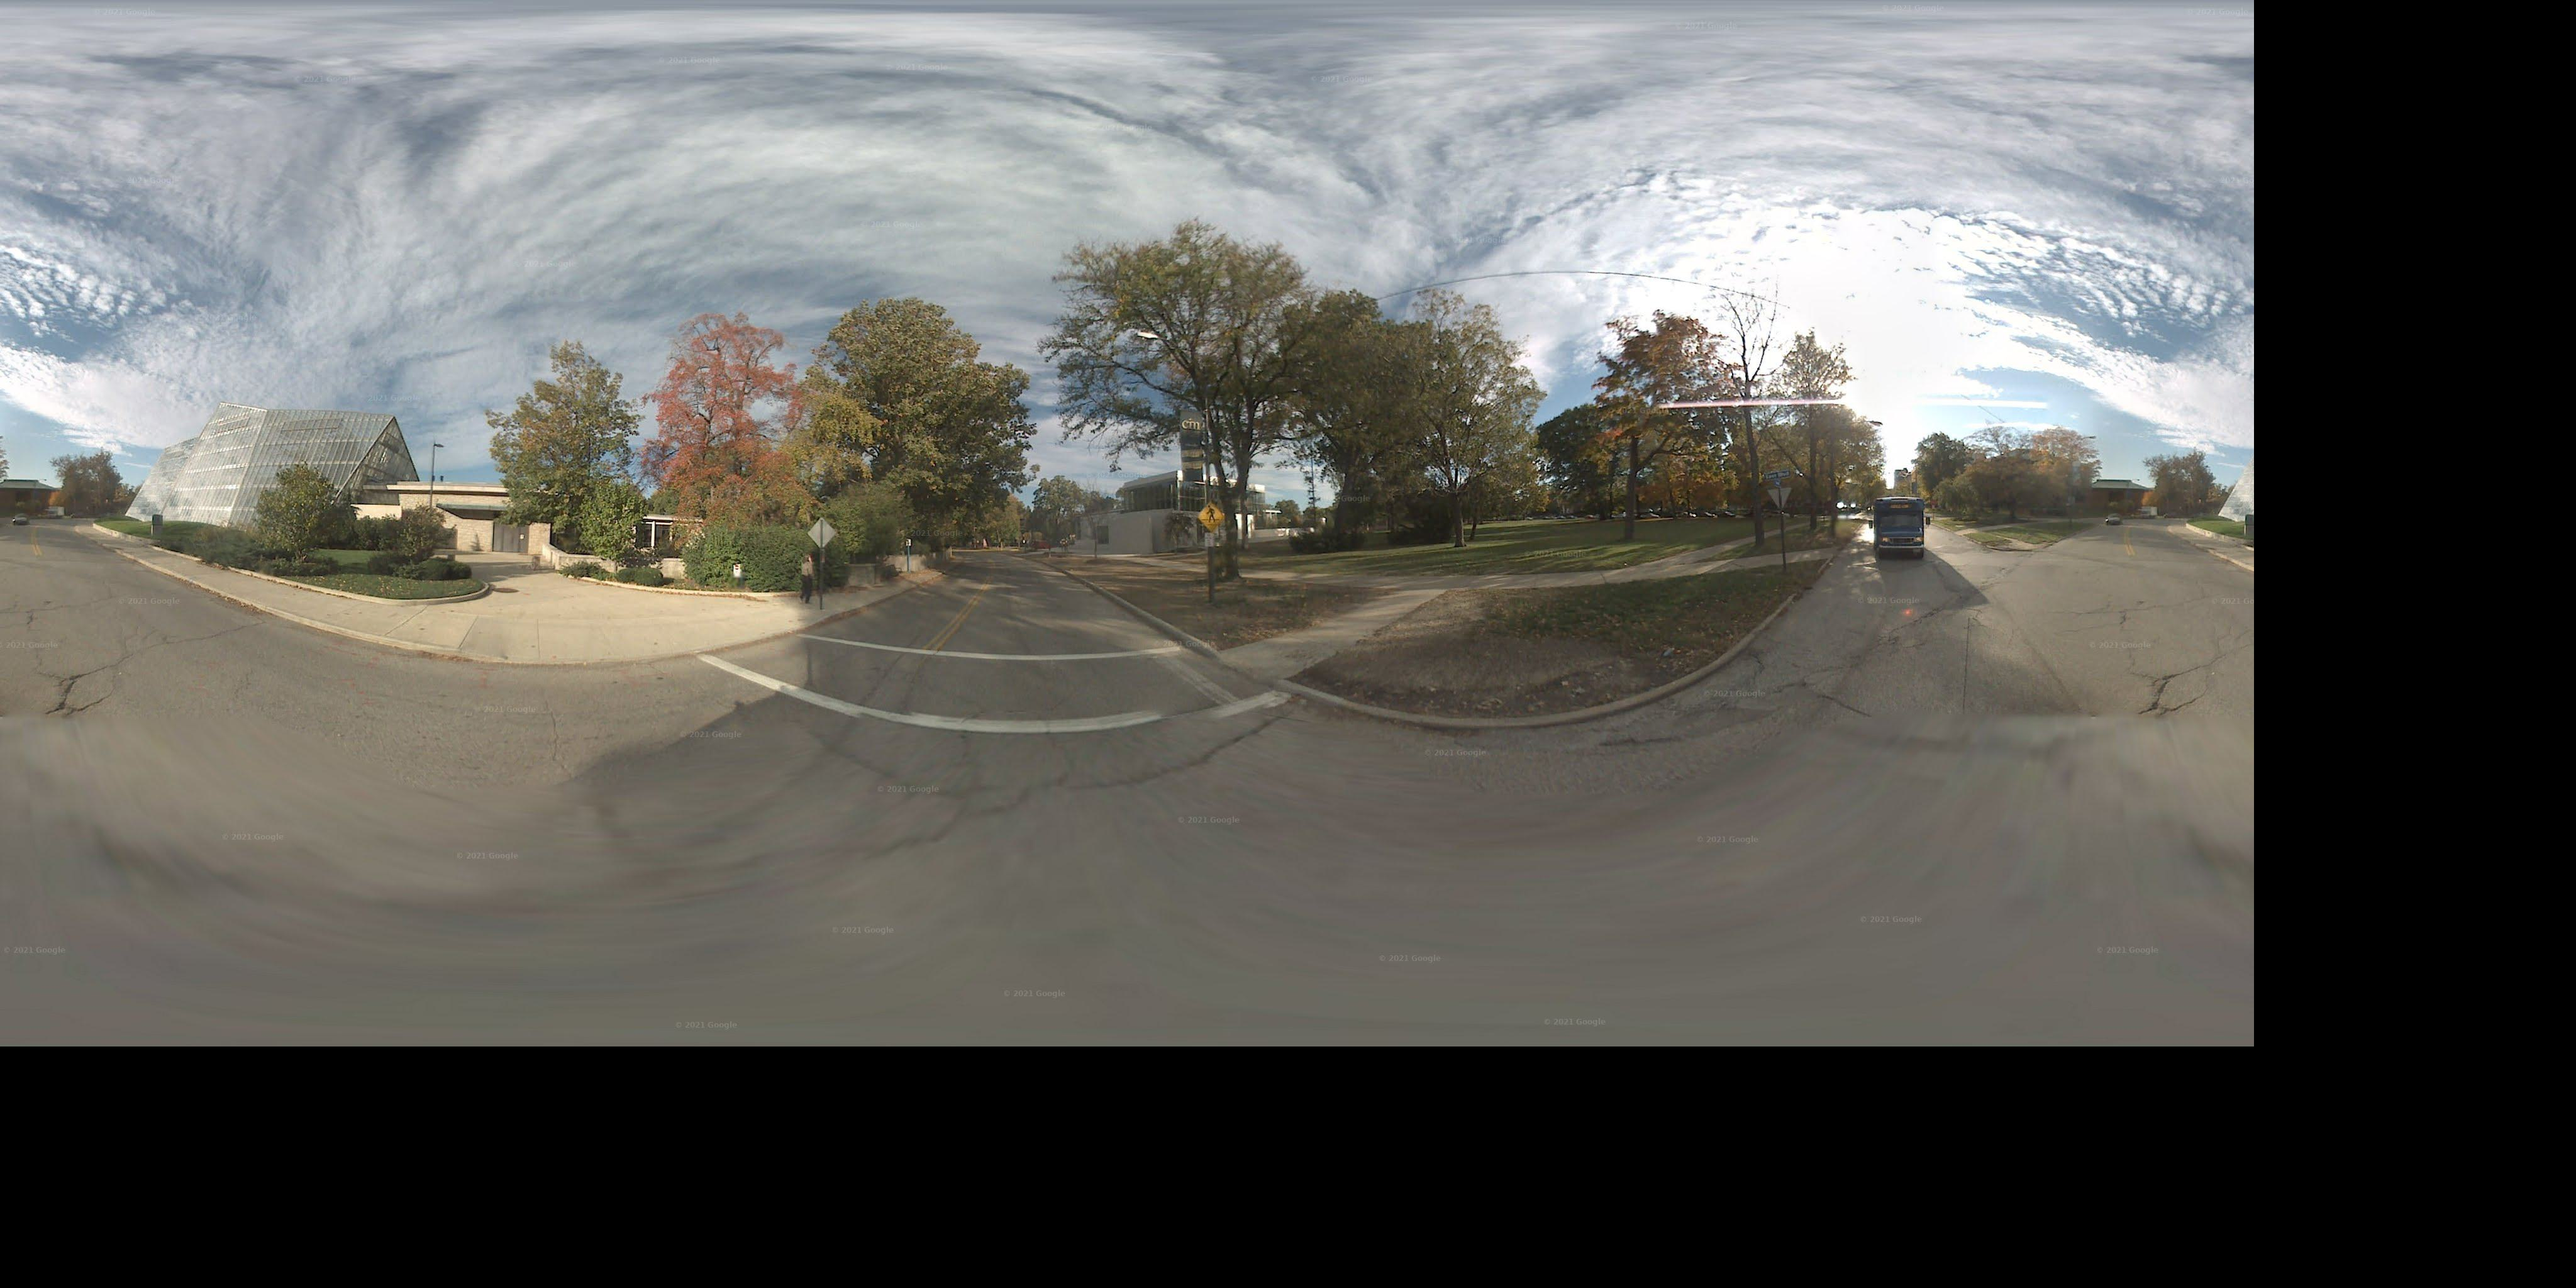Curb Ramp: (688, 609, 802, 669), (1212, 639, 1298, 693), (1819, 540, 1843, 562), (1953, 526, 1970, 537)
